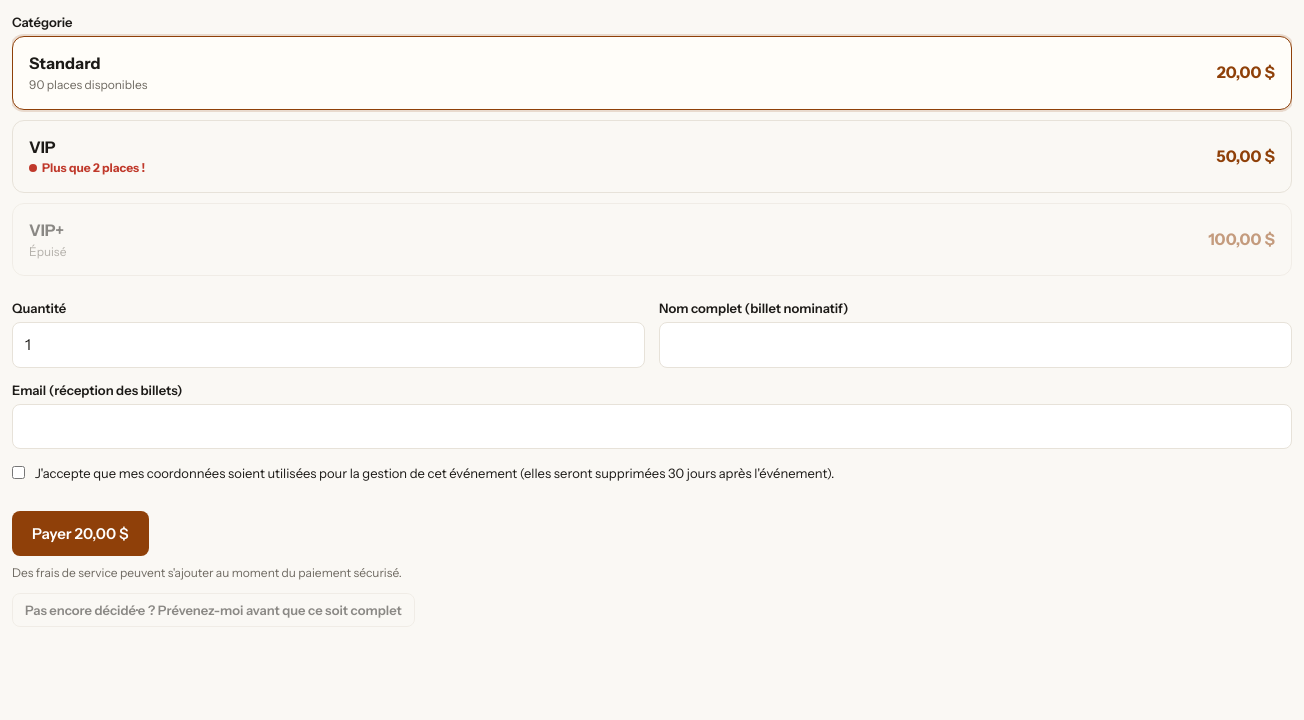
Test: CheckoutForm › affiche l'erreur retournée par l'API lors de la soumission
The image size is (1304, 720).
Type "Grace Hopper" into the field labelled "Nom complet (billet nominatif)".
click(976, 345); type("Grace Hopper")  # box [659,322,1292,368]
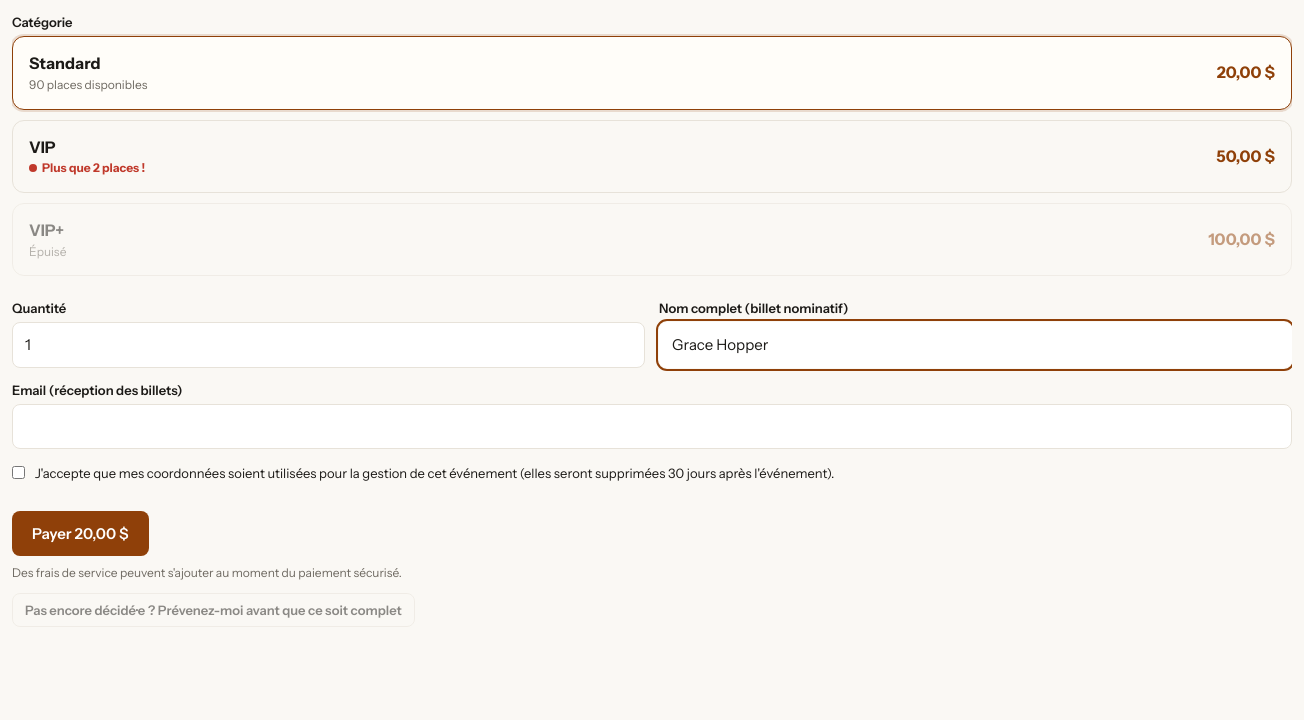
Type "grace@example.com" into the field labelled "Email (réception des billets)".
click(652, 426); type("grace@example.com")  # box [12,404,1292,449]
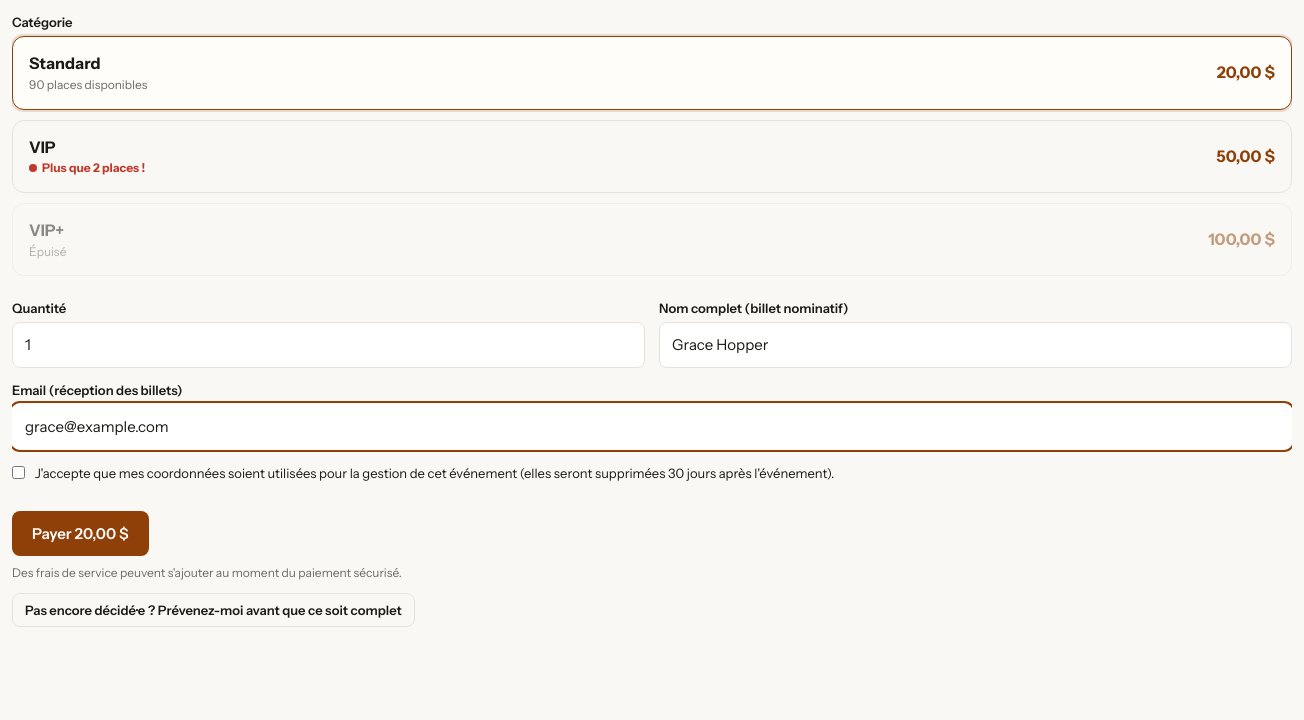
Click the checkbox labelled "coordonnées soient utilisées".
click(18, 473)  # box [12,466,25,479]
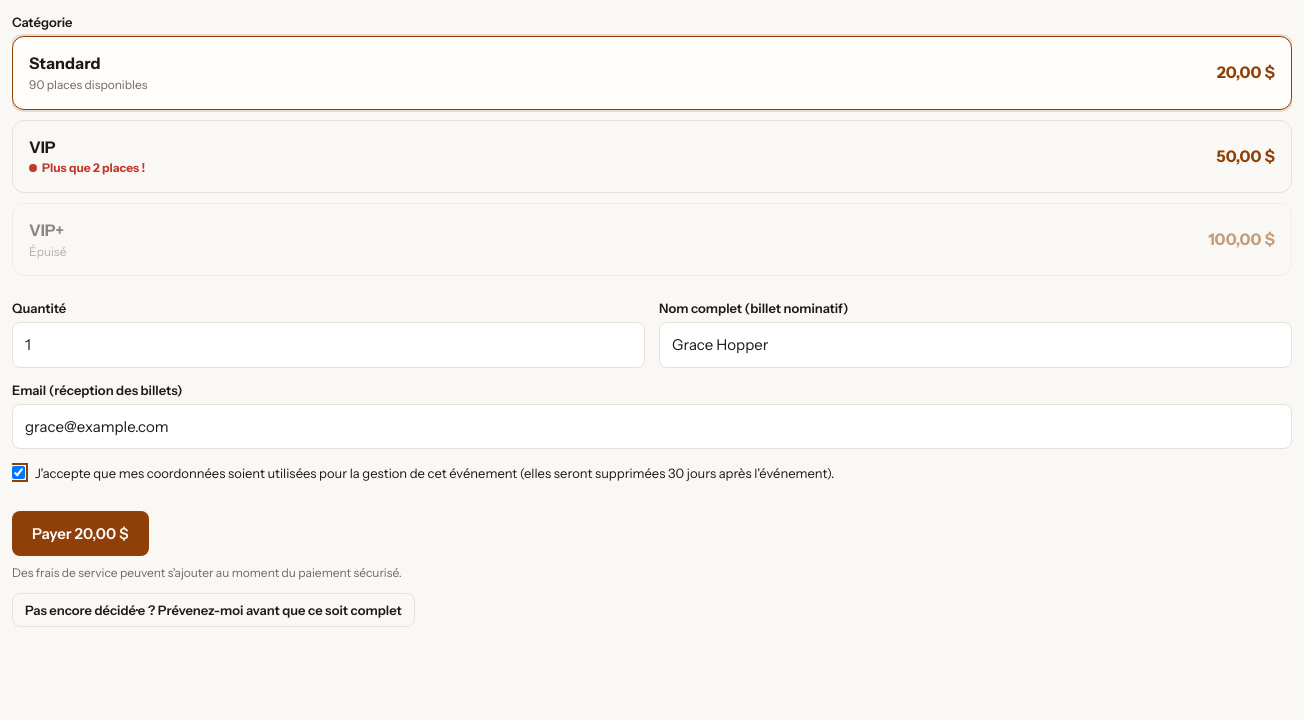
Click the button "Payer 20,00 $".
click(80, 534)  # box [12,511,149,556]
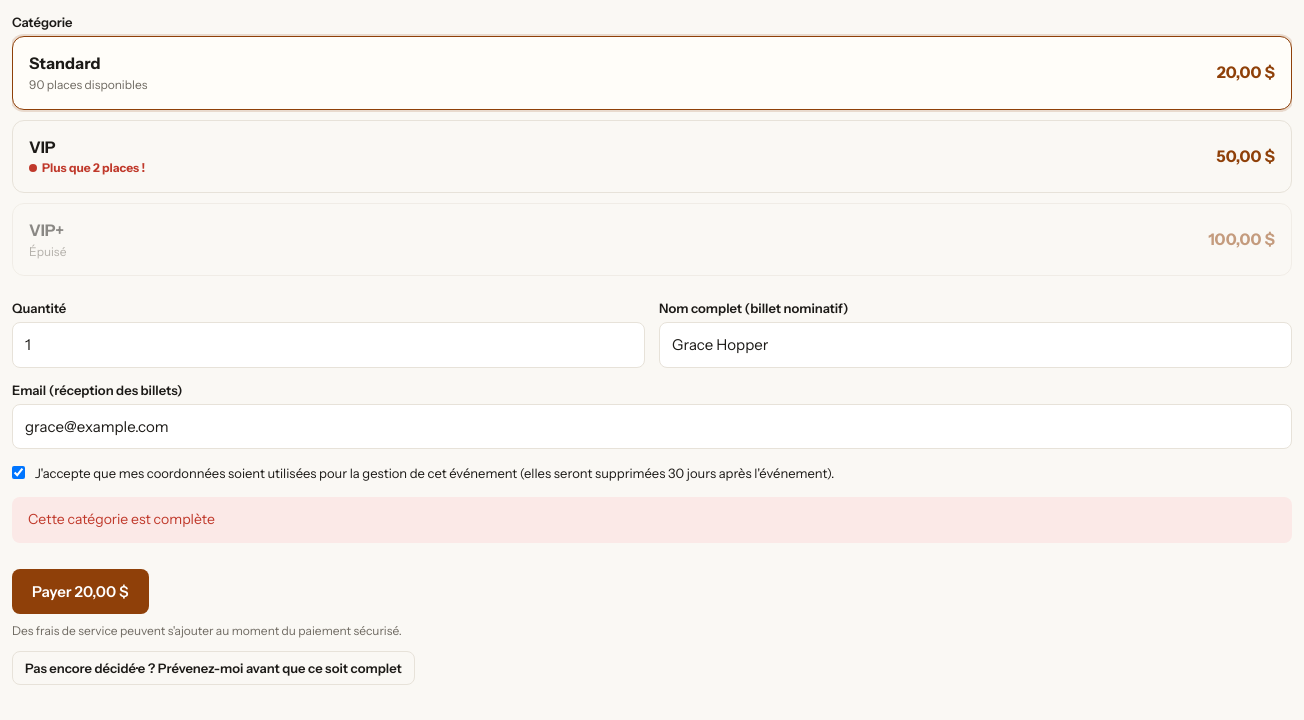
Check: the text "Cette catégorie est complète" is shown, box [12,497,1292,543]
